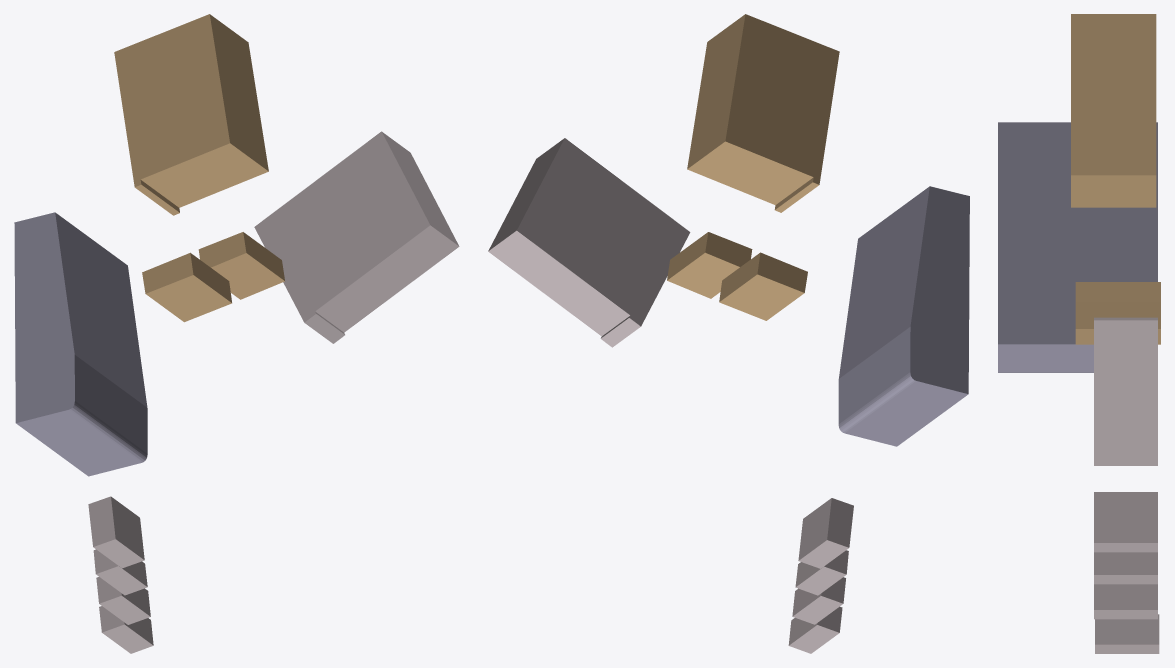
The picture shows the model from 3 angles, left to right: view 1: azimuth 30°, elevation 25°; view 2: azimuth 150°, elevation 25°; view 3: azimuth 270°, elevation 25°; orthographic projection. The views are drawn at different scales.
Visible parts, largest first — view 1: 0_0_3_2_0_1_0; view 2: 0_0_3_2_0_1_0; view 3: 0_0_3_2_0_1_0.
Boxes of the visible parts, x1,y1,x2,y2 form: 0_0_3_2_0_1_0: (14, 14, 459, 653); 0_0_3_2_0_1_0: (488, 14, 969, 653); 0_0_3_2_0_1_0: (998, 14, 1160, 653).
Bounding box in the file's own units: 149 × 203 × 45.8.
